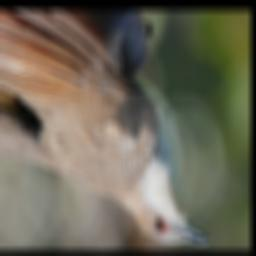Cuckoo: (0, 10, 210, 245)
